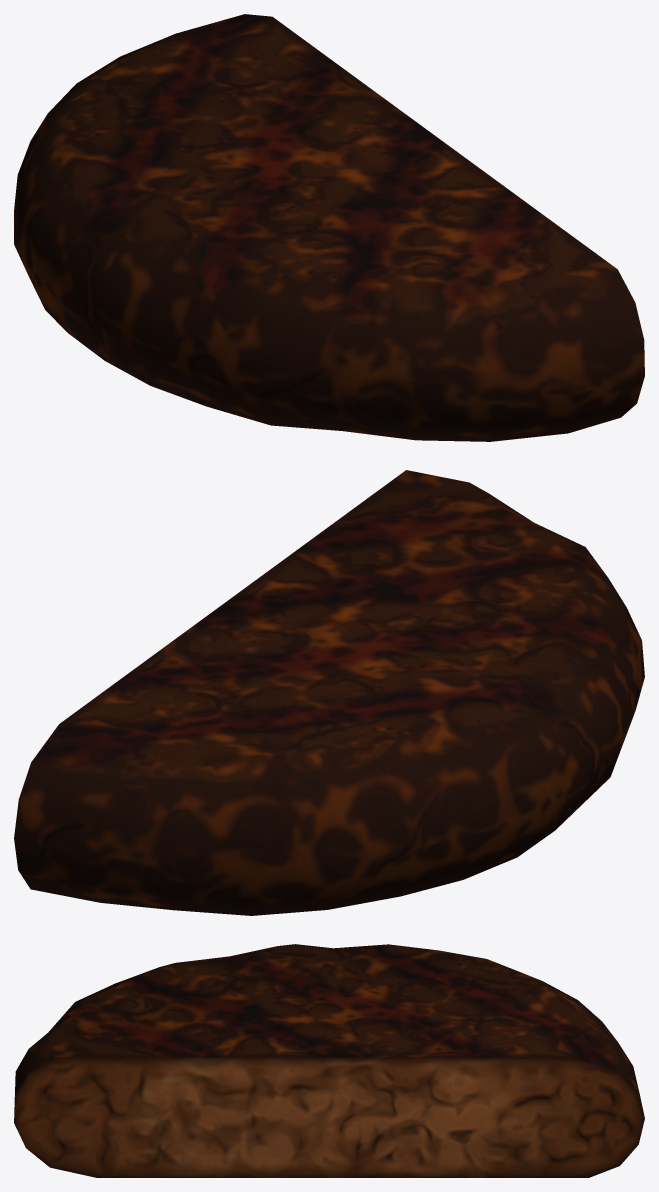
File: SM_BurgerPattyBurnedCutA.glb
3 views of the same model, one above another, from view 1: azimuth 30°, elevation 25°; view 2: azimuth 150°, elevation 25°; view 3: azimuth 270°, elevation 25° (orthographic). The views are drawn at different scales.
Visible parts, largest first — view 1: SM_BurgerPattyBurnedCutA; view 2: SM_BurgerPattyBurnedCutA; view 3: SM_BurgerPattyBurnedCutA.
Boxes of the visible parts, x1,y1,x2,y2 form: SM_BurgerPattyBurnedCutA: (14,14,644,441); SM_BurgerPattyBurnedCutA: (14,470,644,915); SM_BurgerPattyBurnedCutA: (14,944,644,1177).
Size of the model in its own units: 0.0858 by 0.0362 by 0.1719.
Materials: 1 (1 with a texture image).
